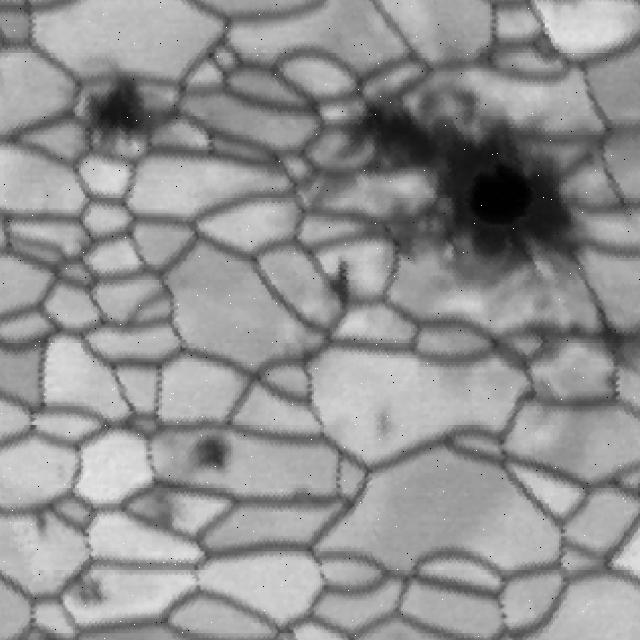good_void: (344, 86, 603, 280), (67, 58, 172, 162), (176, 419, 259, 482), (315, 255, 366, 319), (342, 400, 407, 448), (61, 564, 122, 610), (11, 501, 64, 549), (147, 490, 193, 529)
